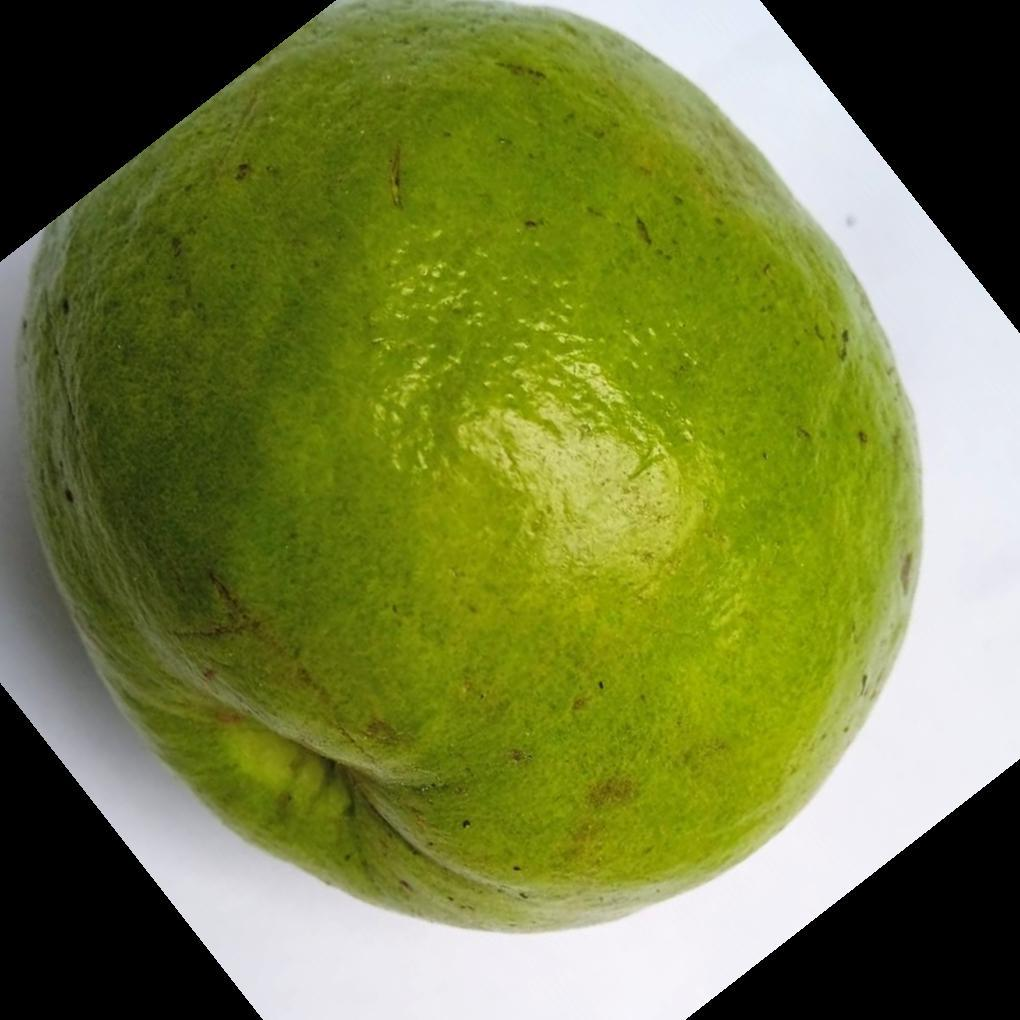FreshGuava: (15, 0, 927, 939)
